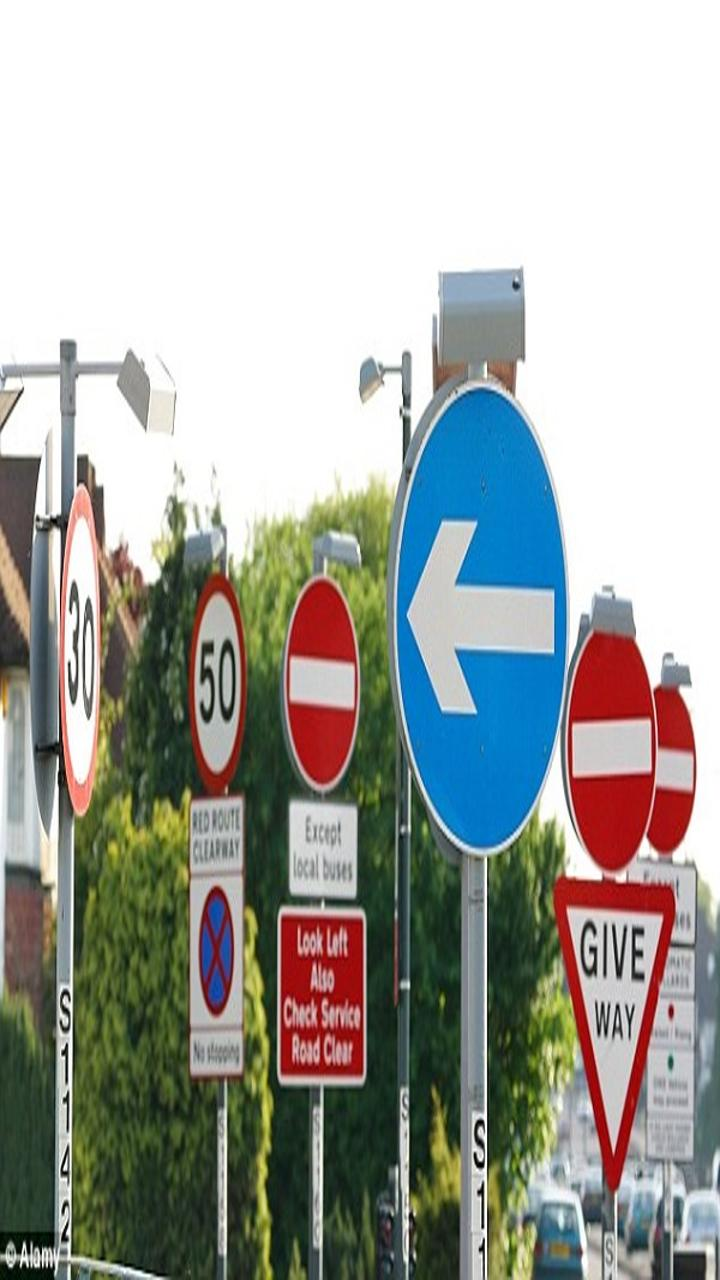Traffic sign: (383, 383, 571, 865), (274, 560, 374, 800), (558, 622, 658, 862), (44, 493, 112, 815), (172, 572, 262, 789), (647, 624, 717, 863), (180, 875, 247, 1029)
